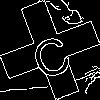C: (25, 25, 75, 81)
